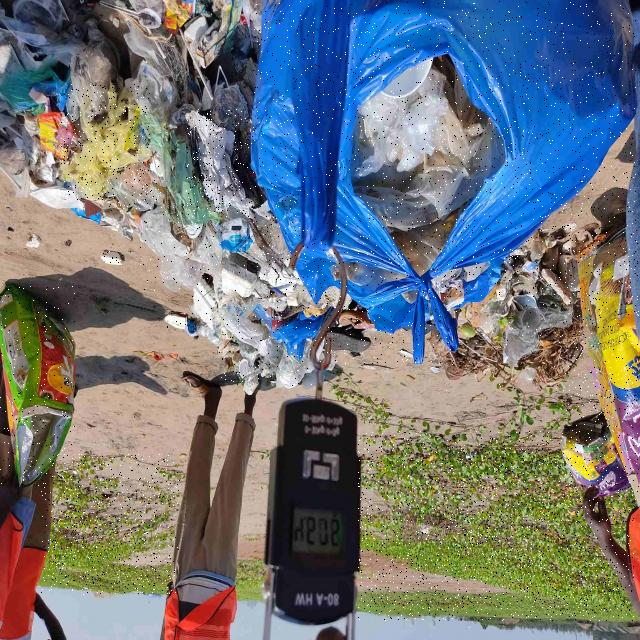biowaste: (358, 431, 634, 621), (41, 454, 180, 594), (441, 302, 586, 390), (431, 330, 450, 356)
other: (61, 84, 150, 200), (328, 327, 372, 354), (340, 310, 375, 328)
plastic: (254, 1, 636, 363), (564, 227, 639, 503), (0, 285, 75, 486), (221, 297, 312, 389), (186, 109, 253, 218), (141, 206, 206, 291), (504, 295, 575, 368), (219, 297, 277, 365), (106, 162, 162, 212), (191, 223, 224, 274)
styrofoam: (221, 259, 257, 298), (191, 278, 216, 329), (101, 250, 123, 265), (165, 313, 186, 328)
